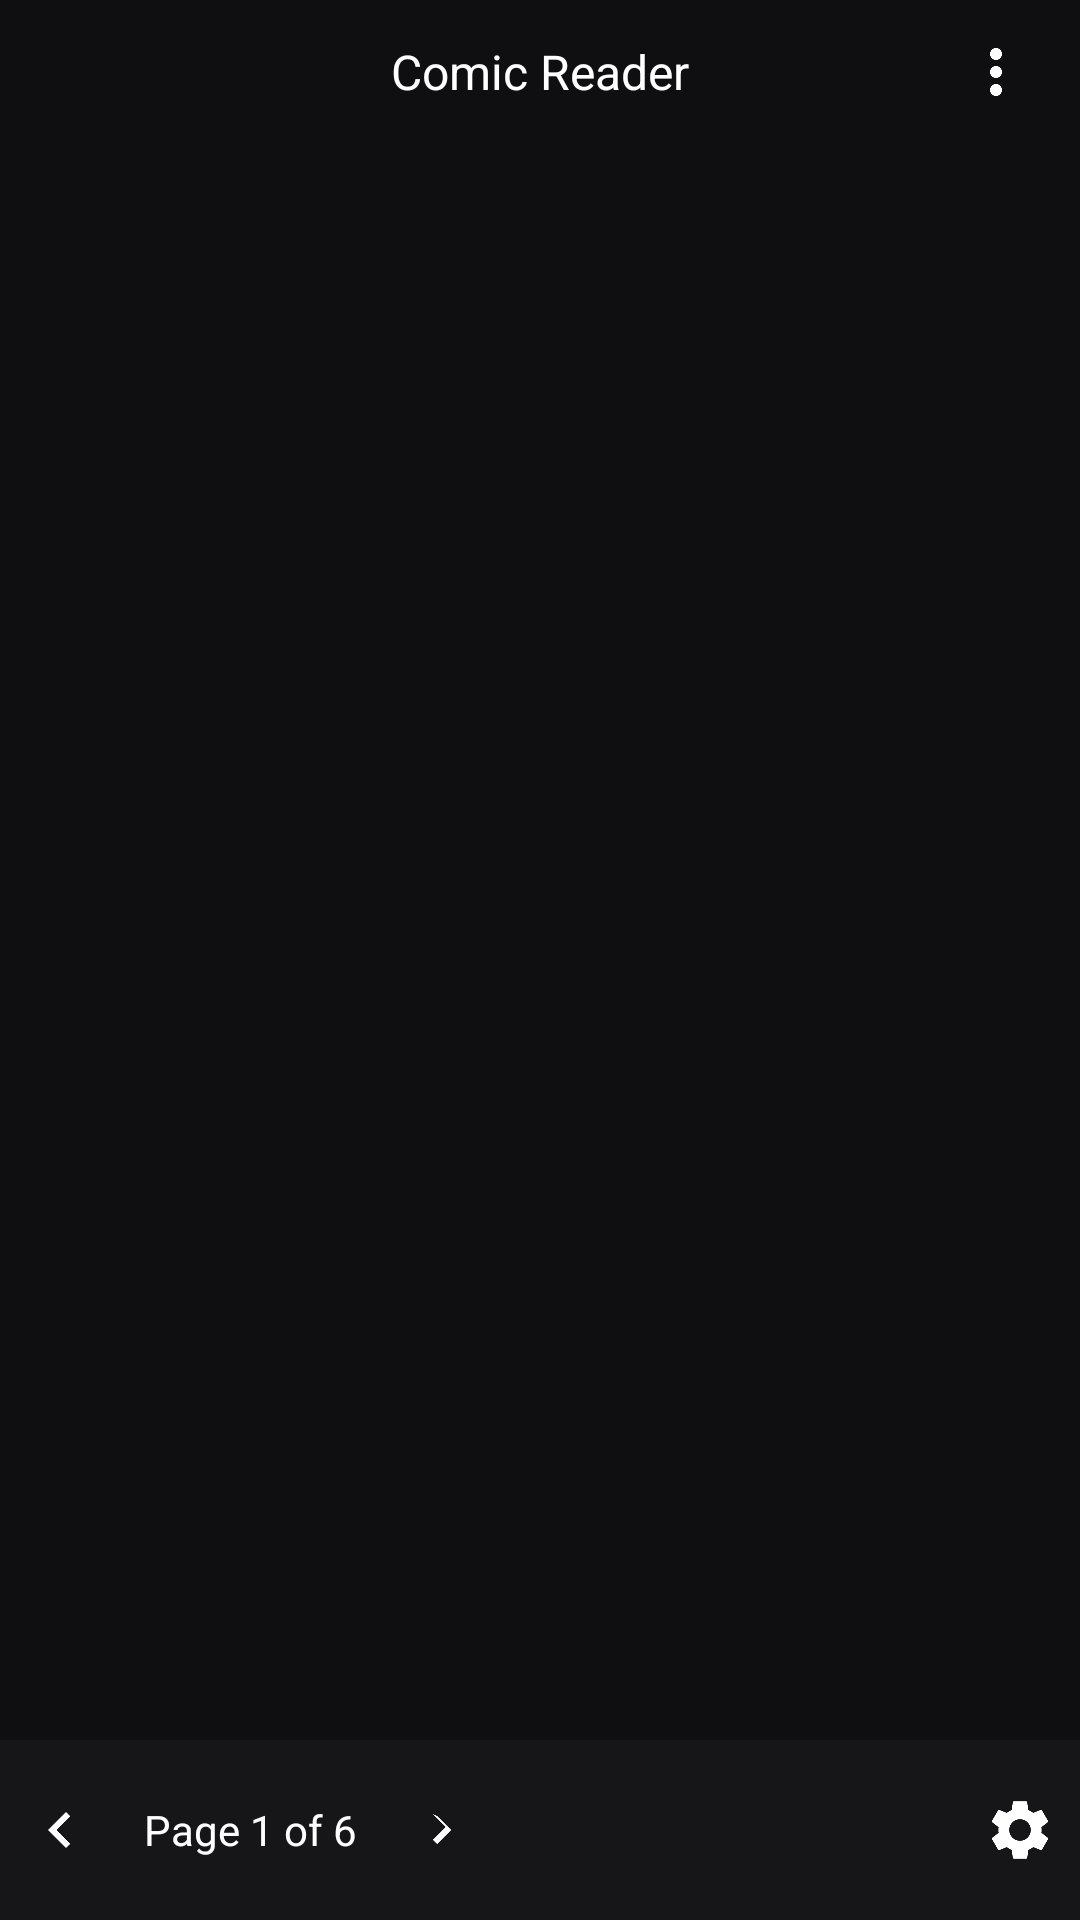

Icons on this 1080×1920 Android screen, each with the point to tap as point (x, y):
chevron left: point (59, 1830)
chevron right: point (442, 1829)
more vert: point (996, 72)
settings: point (1020, 1830)
